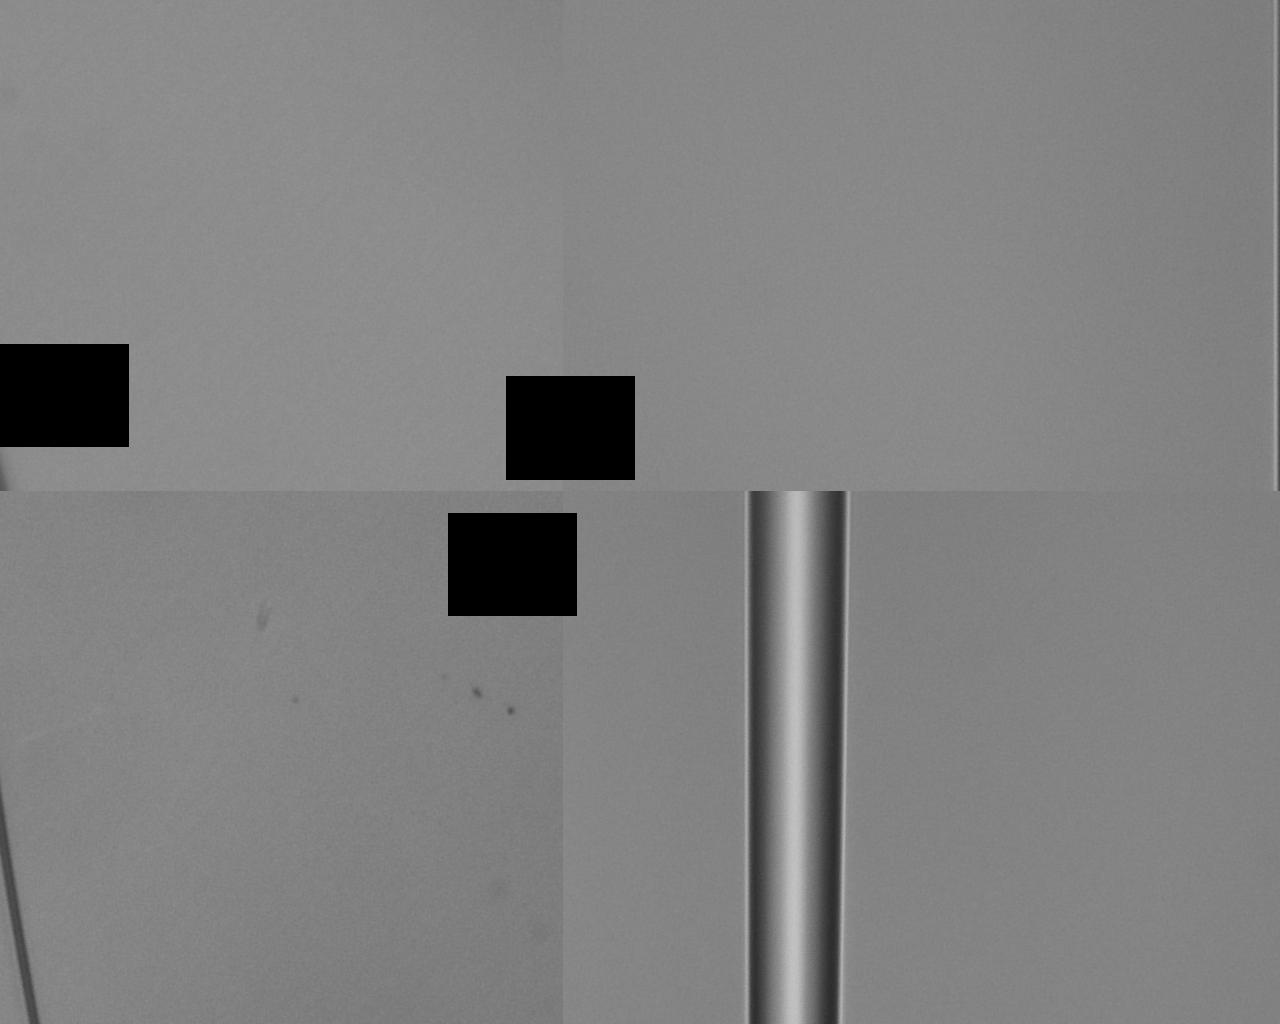fiber: (462, 373, 1167, 1024), (0, 358, 202, 1024), (1121, 0, 1280, 358)
